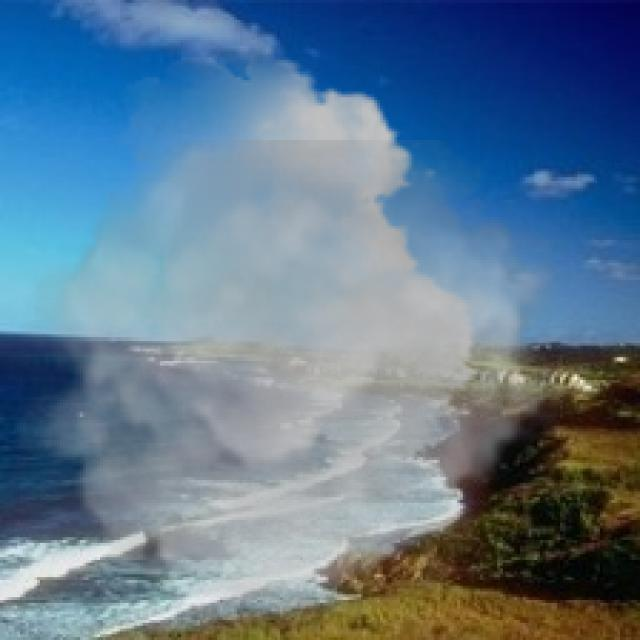smoke: (14, 46, 577, 608)
